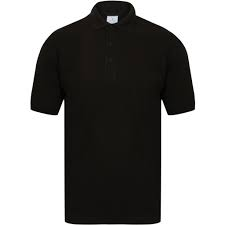C_polo shirt: (37, 7, 192, 215)
